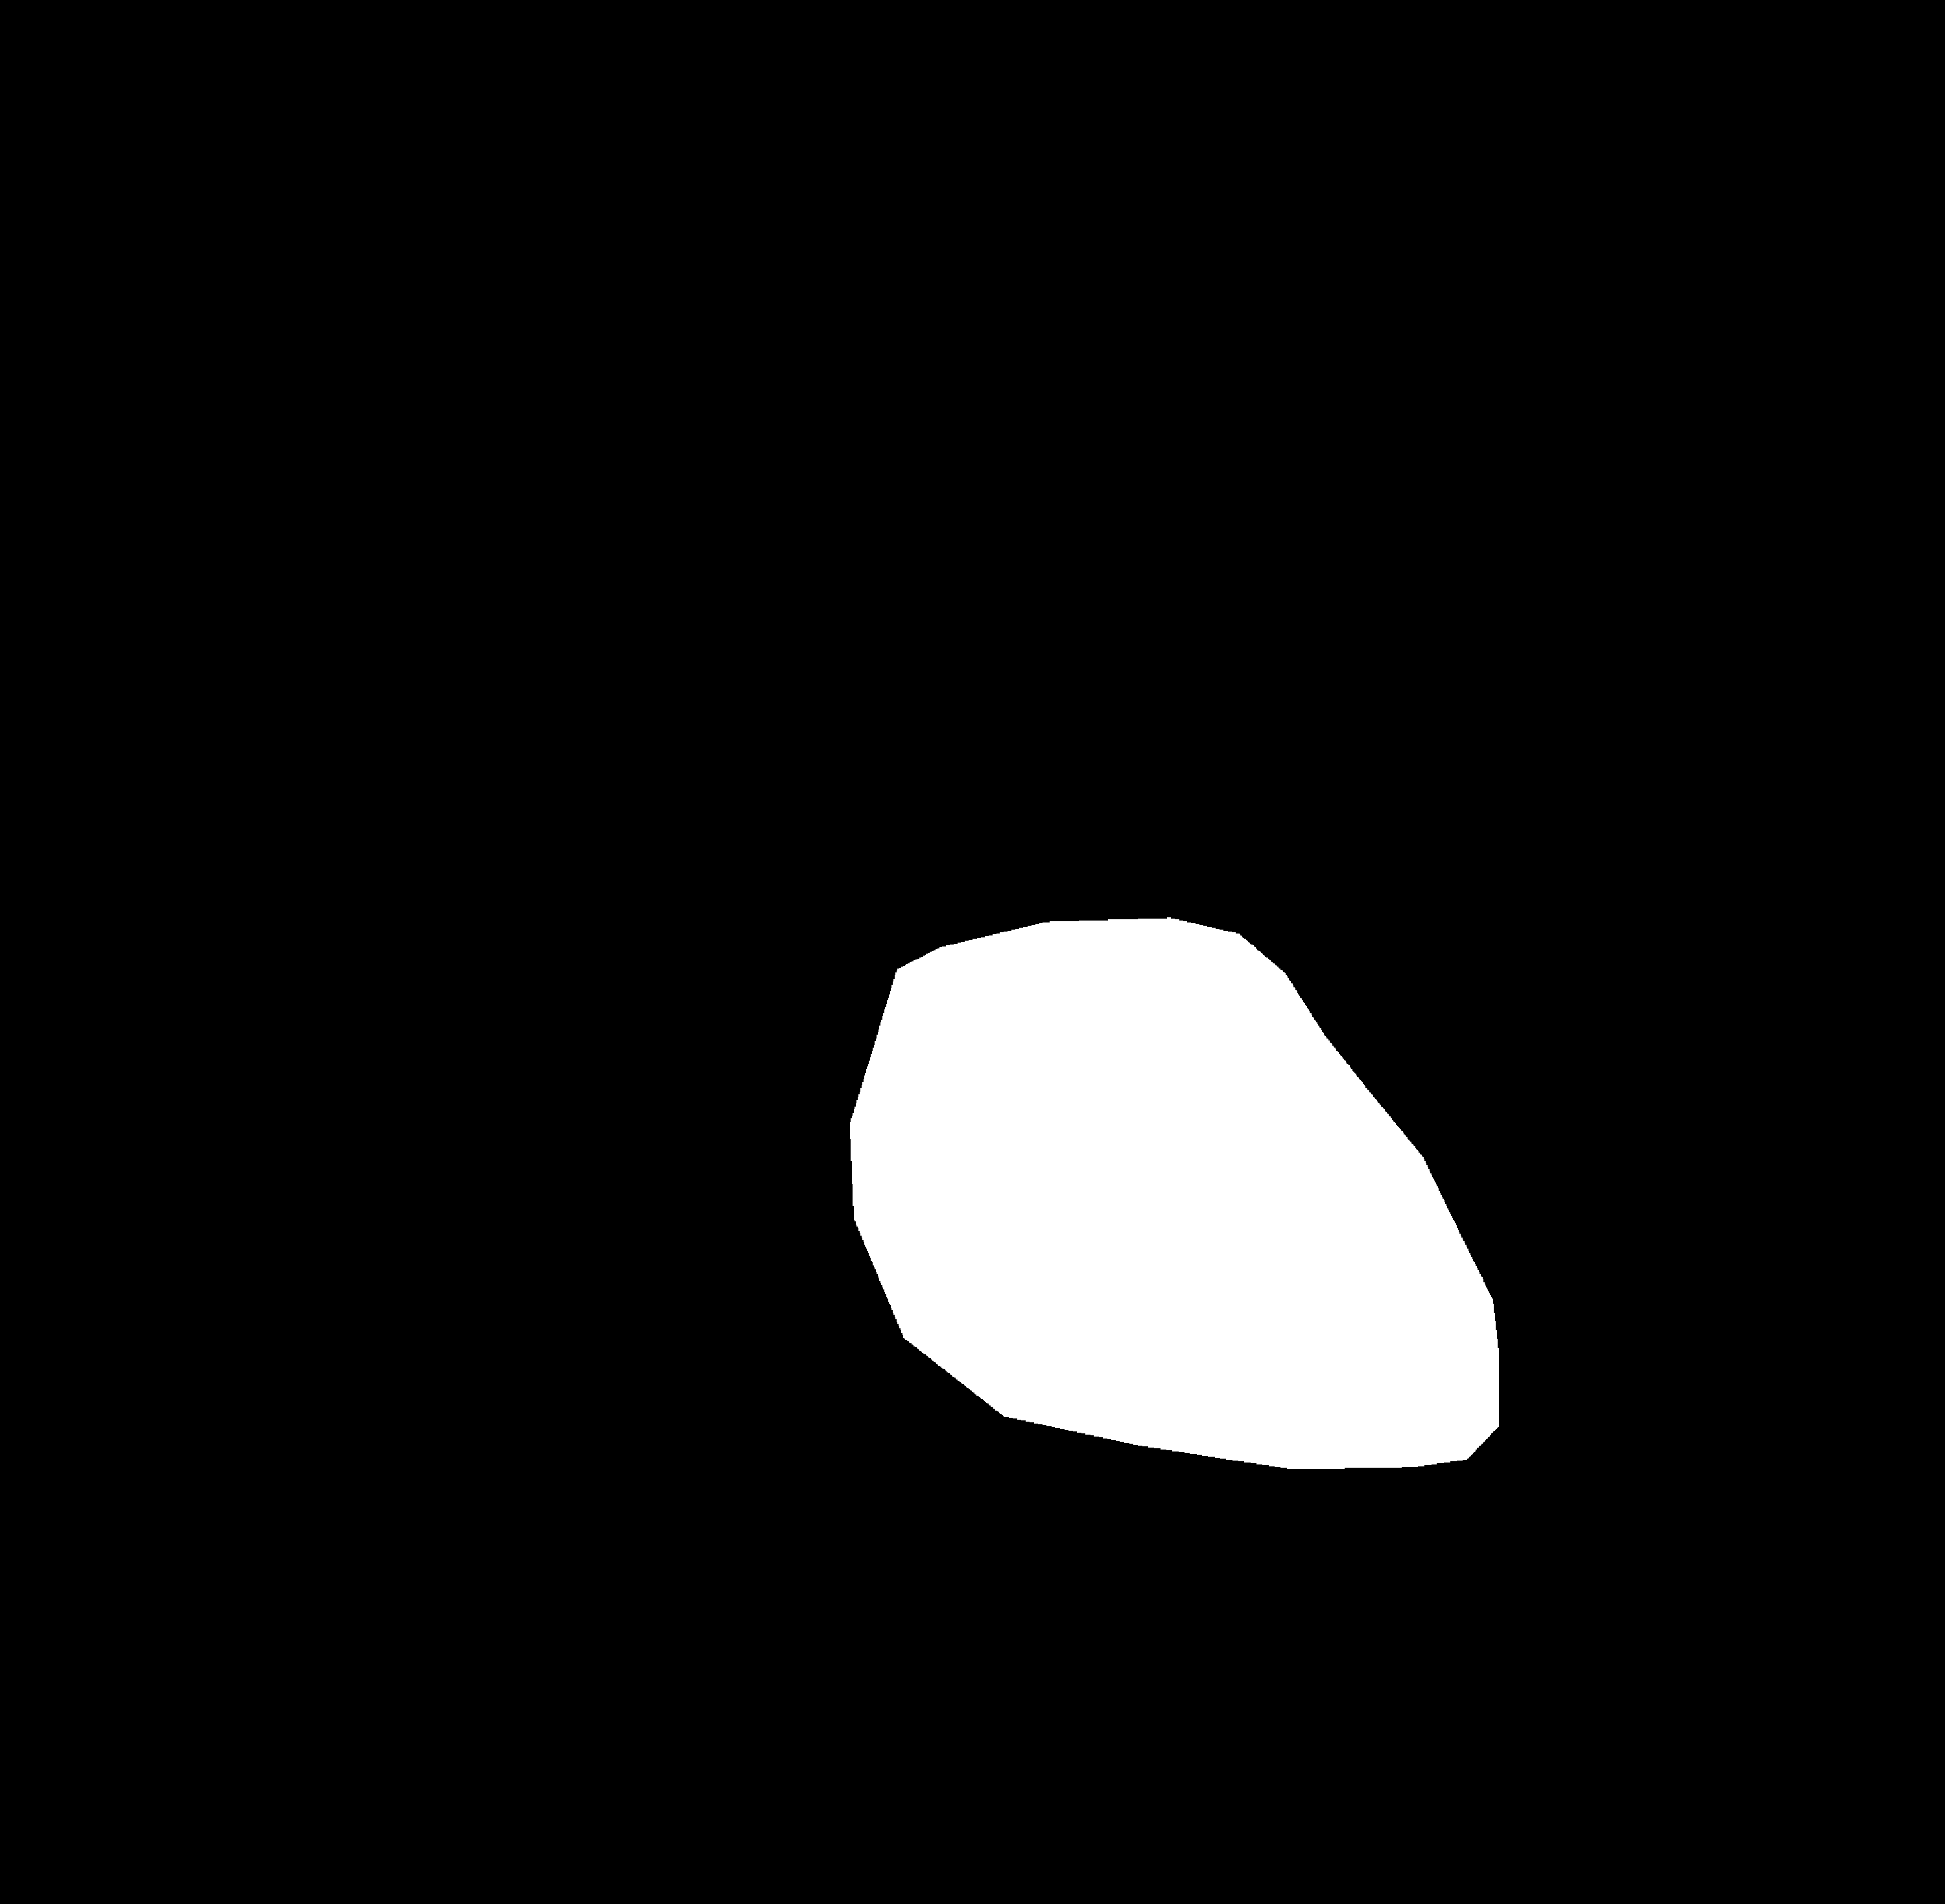heart: (851, 1001, 1511, 1533)
left_lung: (279, 307, 925, 1597)
right_lung: (1087, 324, 1694, 1672)
